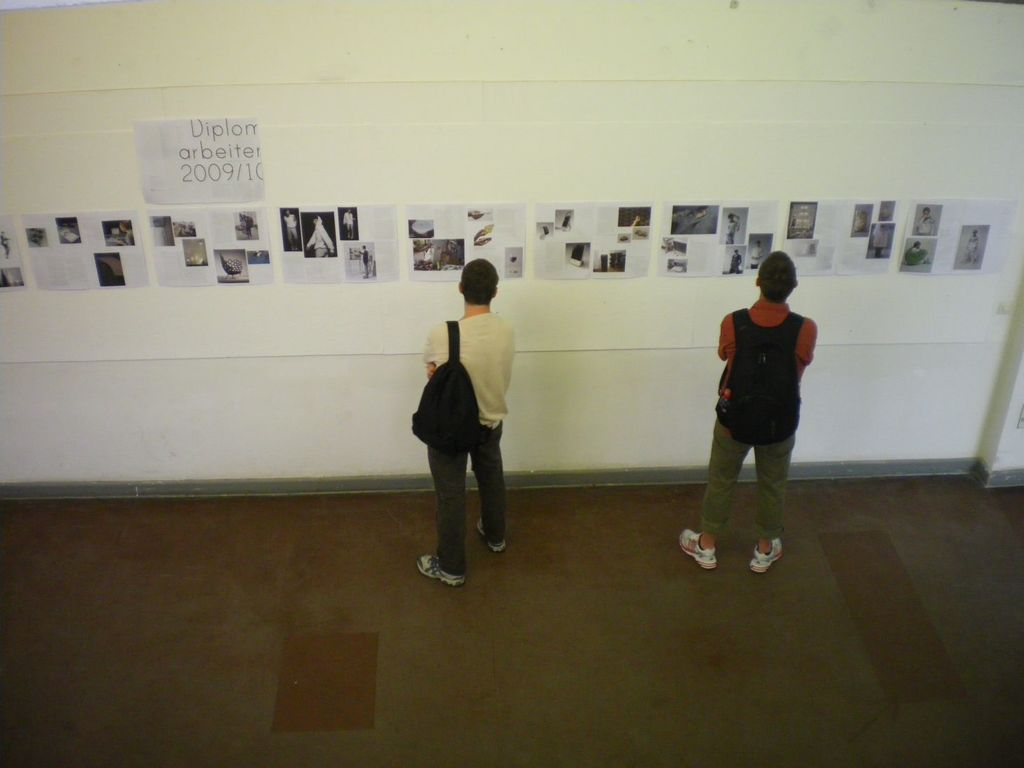Person: (0, 206, 978, 586)
